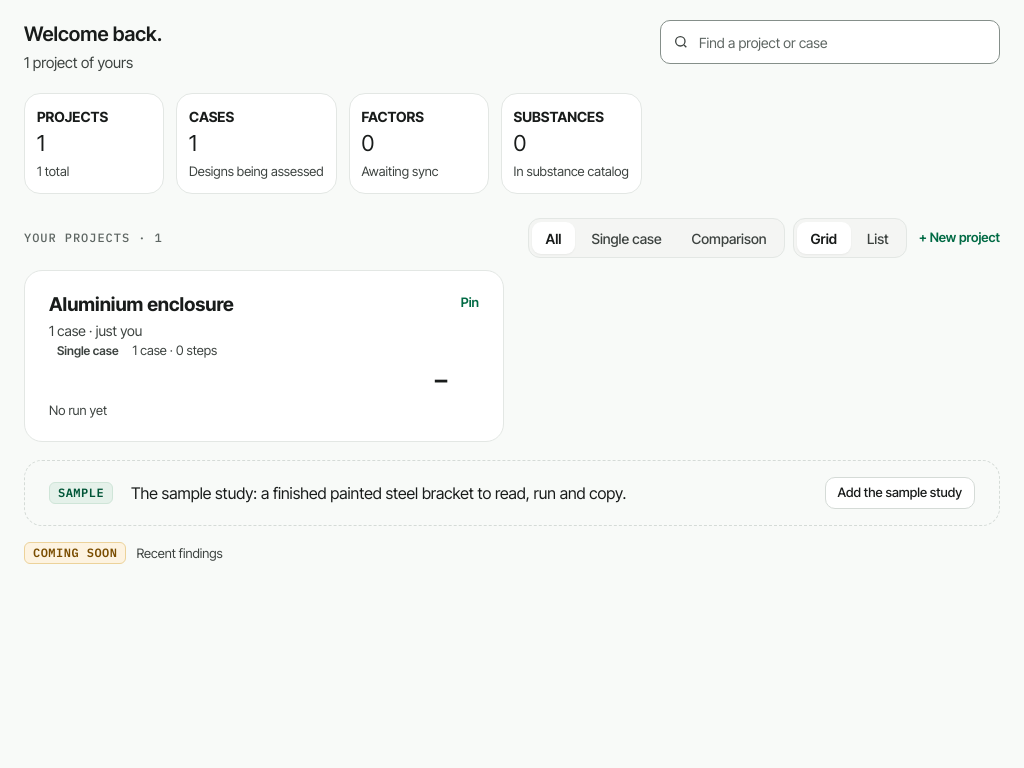
Test case: Home without the sample › offers the sample study again and builds it
Click the button "Add the sample study": (900, 492) x1=825 y1=476 x2=975 y2=508
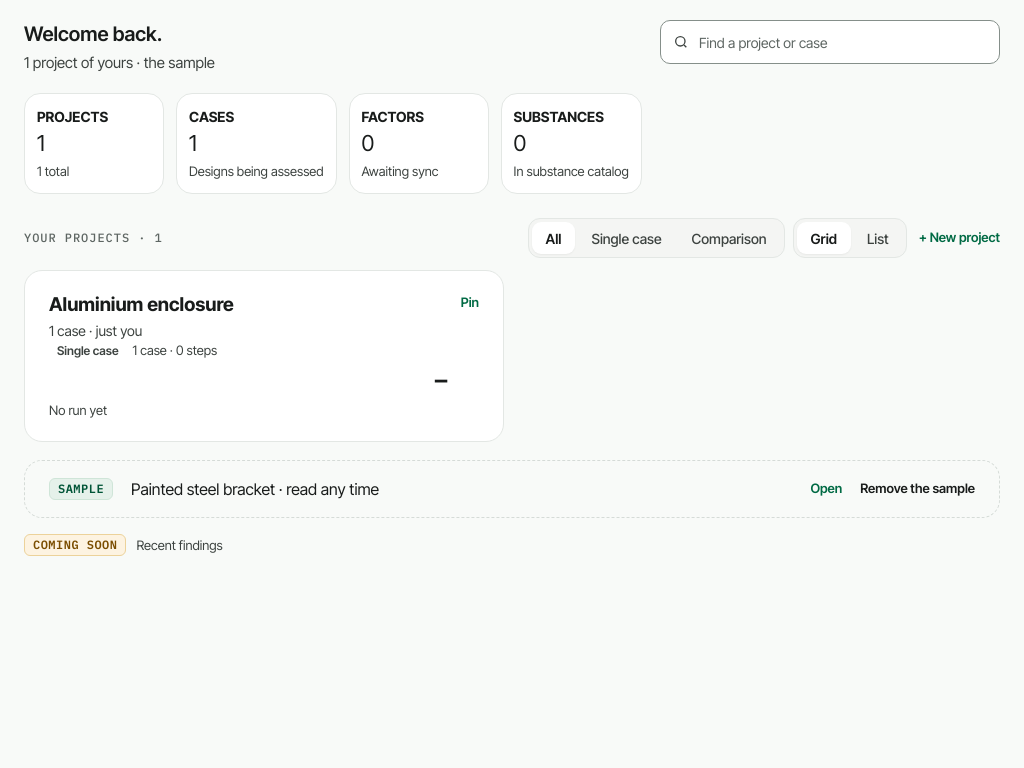
expect the button "Remove the sample" is shown: met, box x1=860 y1=476 x2=975 y2=500
expect the button "Add the sample study" is gone: met
